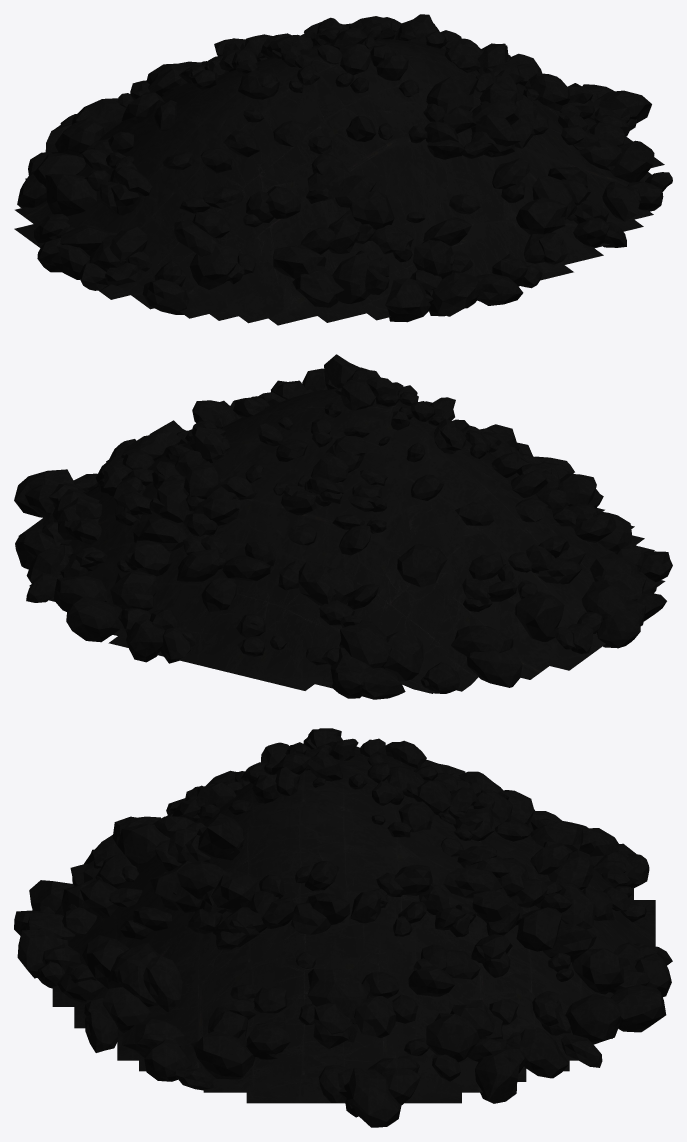
The model's file is coal-pile.glb.
The picture shows the model from 3 angles, top to bottom: view 1: azimuth 30°, elevation 25°; view 2: azimuth 150°, elevation 25°; view 3: azimuth 270°, elevation 25°; orthographic projection. The views are drawn at different scales.
Parts seen in each view (by area): view 1: coal-lumps, slack-heap; view 2: coal-lumps, slack-heap; view 3: coal-lumps, slack-heap.
Boxes of the visible parts, x1,y1,x2,y2 form: coal-lumps: (17,14,672,322); slack-heap: (14,39,664,325); coal-lumps: (14,354,672,699); slack-heap: (18,388,665,693); coal-lumps: (14,728,672,1127); slack-heap: (52,749,655,1103).
Size of the model in its own units: 2.26 by 0.6664 by 1.87.
2 materials, 2 textured.
